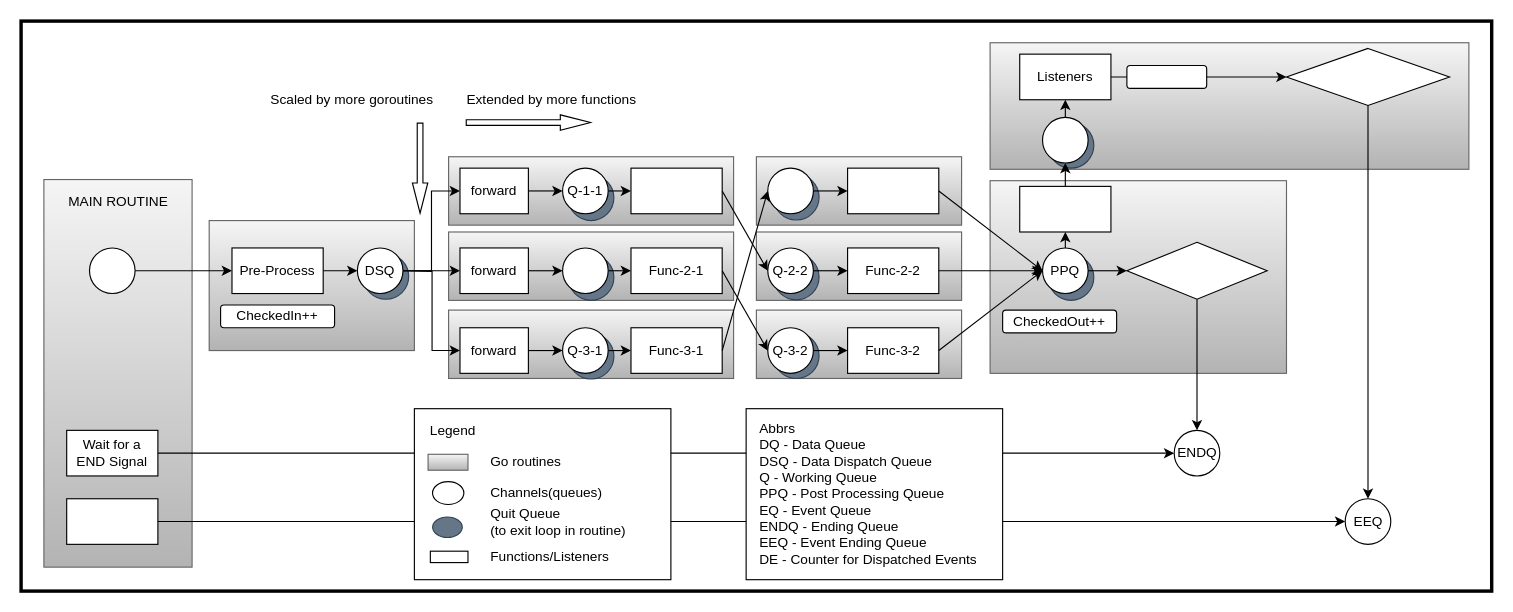
Image size: 1513x612. Some labels were removed from this diagram. The shapes that lost their labels are listed below. From the top down, each one's centre as x and y in pixels, then its label:
At point (1166, 76): "DE++".
At point (1367, 76): "DE >= CheckedIn?".
At point (1064, 139): "EQ".
At point (676, 190): "Func-1-1".
At point (790, 190): "Q-1-2".
At point (892, 190): "Func-1-2".
At point (1065, 208): "Event Composition".
At point (111, 270): "DQ".
At point (584, 270): "Q-2-1".
At point (1196, 270): "CheckOut >= In?".
At point (112, 521): "Wait for an event END Signal".
